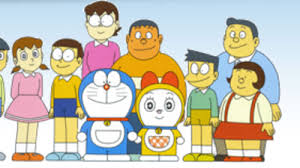doraemon: (75, 68, 139, 161)
